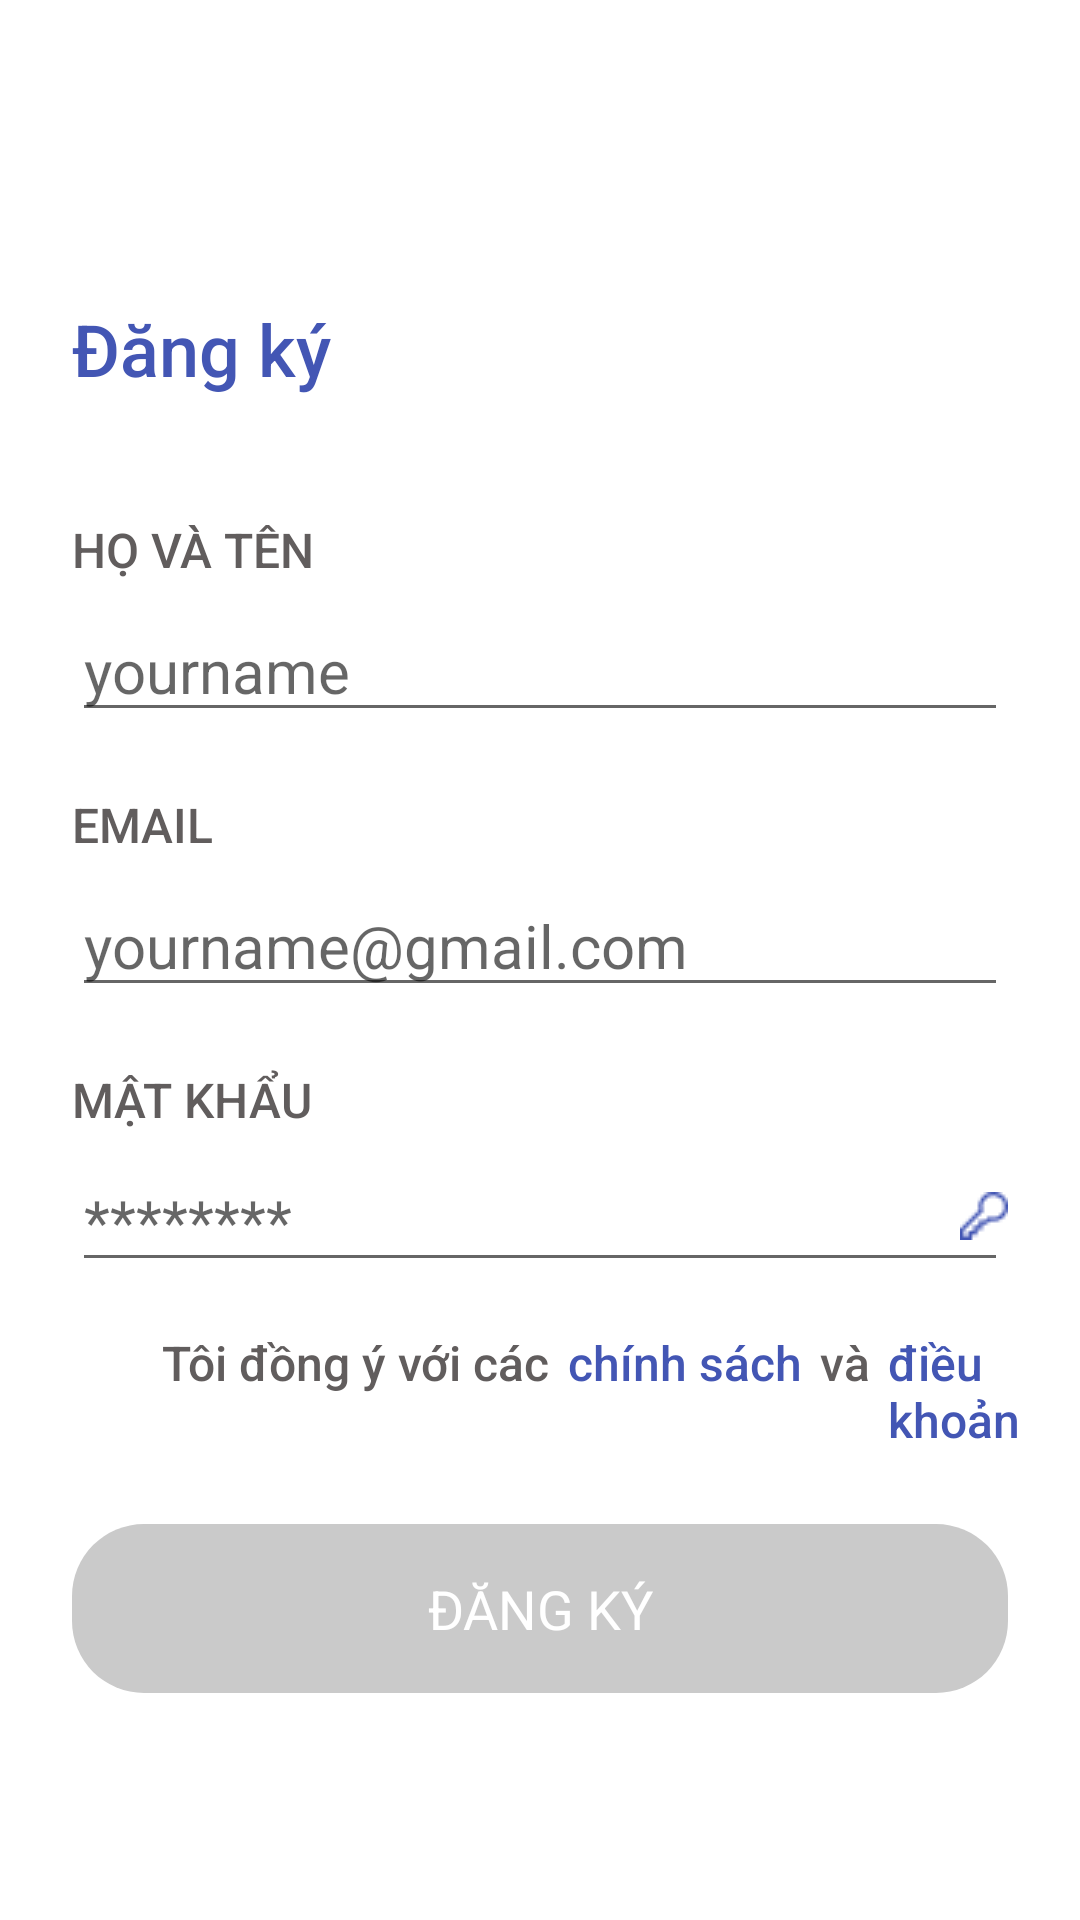

Icons on this 1080*1920 Android screen, each with the point to tap as point (x, y):
password: point (984, 1216)
